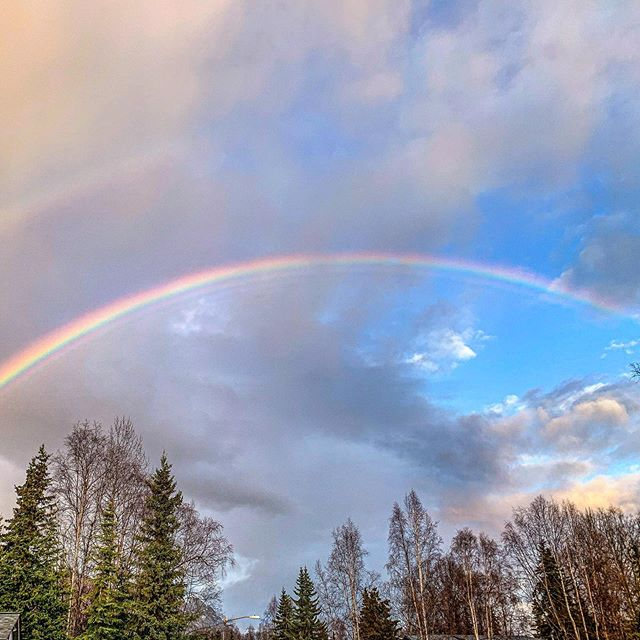rainbow: (14, 255, 640, 400)
sky: (1, 1, 634, 490)
vegetation: (16, 477, 640, 640)
